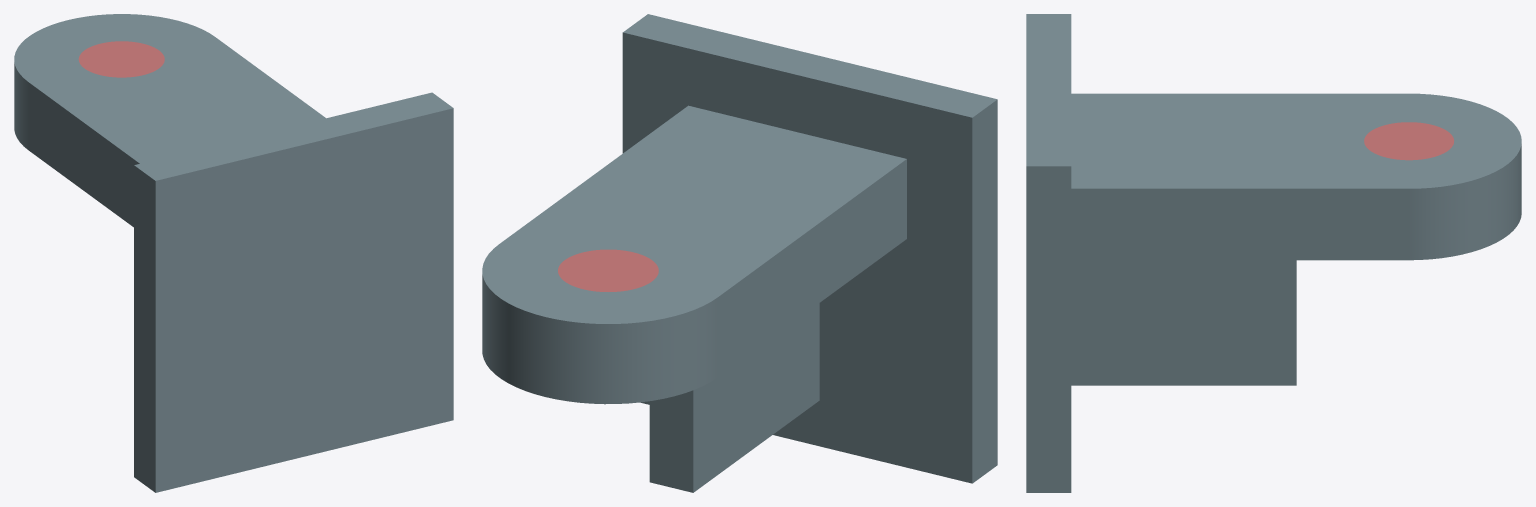
File: step_04.glb
The picture shows the model from 3 angles, left to right: view 1: azimuth 30°, elevation 25°; view 2: azimuth 150°, elevation 25°; view 3: azimuth 270°, elevation 25°; orthographic projection. The views are drawn at different scales.
Visible parts, largest first — view 1: part__actuator bracket, removed__actuator bracket; view 2: part__actuator bracket, removed__actuator bracket; view 3: part__actuator bracket, removed__actuator bracket.
Part boxes in pixels (x1,y1,x2,y2): part__actuator bracket: [14, 14, 453, 492]; removed__actuator bracket: [78, 41, 164, 77]; part__actuator bracket: [482, 14, 997, 492]; removed__actuator bracket: [558, 249, 658, 291]; part__actuator bracket: [1026, 14, 1521, 492]; removed__actuator bracket: [1364, 122, 1453, 160].
Bounding box in the file's own units: 160 × 160 × 220.
